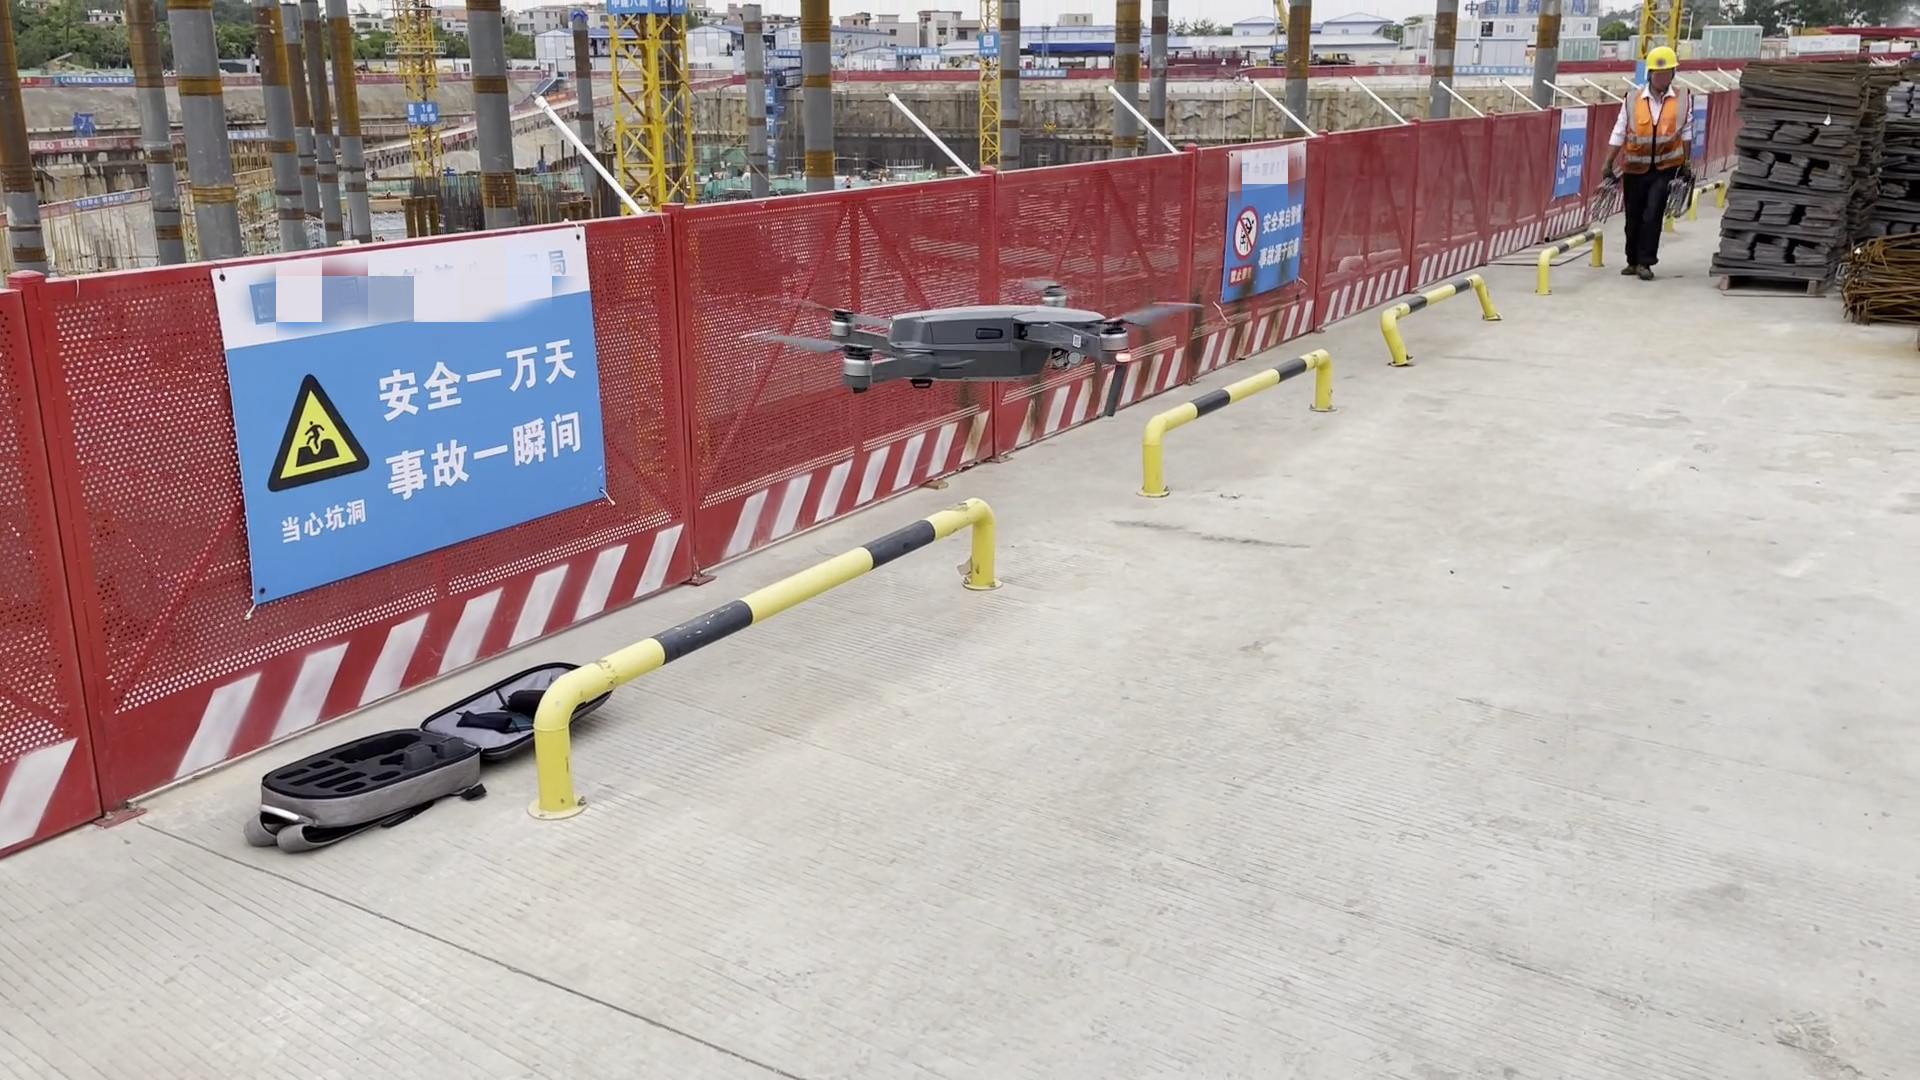fence: (1, 191, 1325, 851), (1320, 64, 1612, 75)
helmet: (1641, 43, 1683, 78)
person: (1617, 48, 1696, 279)
slogan: (266, 337, 589, 489), (1227, 204, 1317, 269), (61, 72, 143, 92), (1453, 64, 1536, 76), (76, 194, 129, 207), (43, 138, 95, 152), (417, 102, 441, 125)
vest: (1622, 88, 1689, 200)
